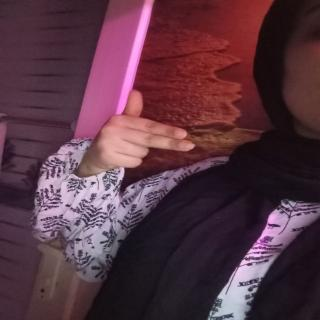GHAYN: (70, 85, 204, 183)
